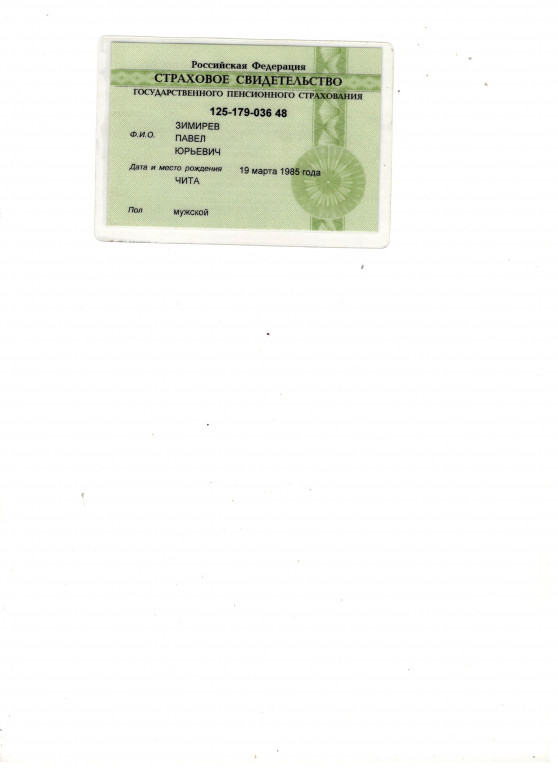text: (205, 104, 292, 118), (239, 164, 321, 178), (171, 119, 223, 132), (171, 144, 221, 157), (172, 132, 210, 143), (172, 208, 211, 218), (172, 175, 201, 185)
